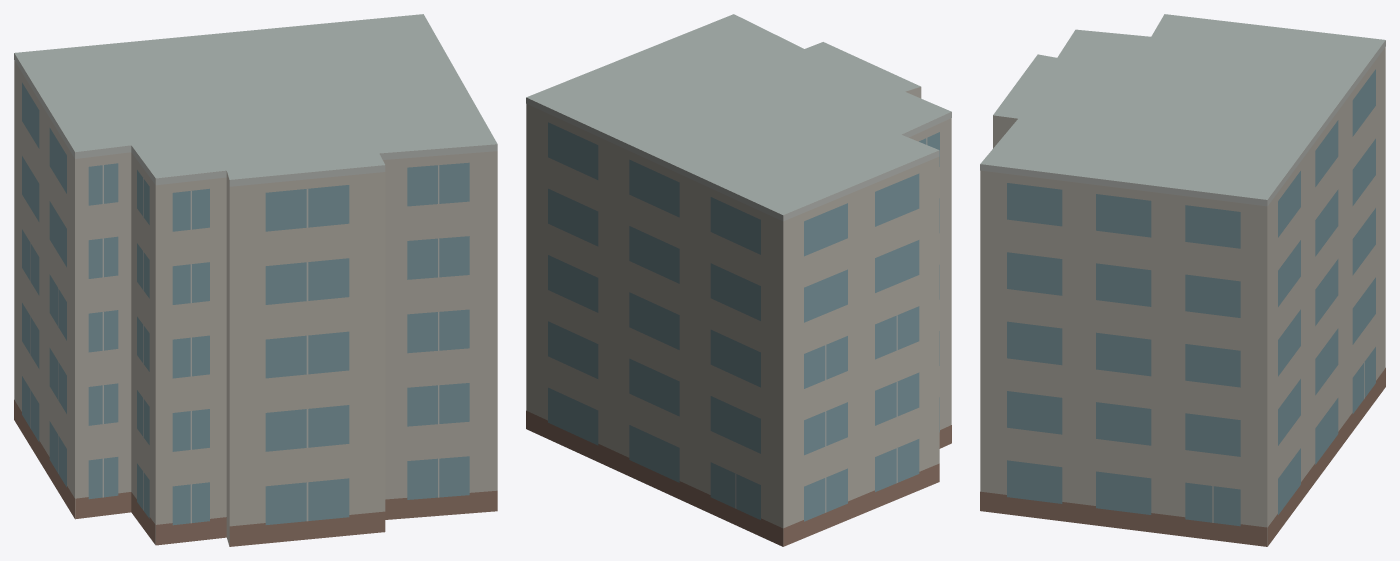
File: survey-upis-32852208.glb
The picture shows the model from 3 angles, left to right: view 1: azimuth 30°, elevation 25°; view 2: azimuth 150°, elevation 25°; view 3: azimuth 270°, elevation 25°; orthographic projection. The views are drawn at different scales.
Parts seen in each view (by area): view 1: survey-upis-32852208.tmp; view 2: survey-upis-32852208.tmp; view 3: survey-upis-32852208.tmp.
Part boxes in pixels (x1,y1,x2,y2): survey-upis-32852208.tmp: [14, 14, 497, 546]; survey-upis-32852208.tmp: [526, 14, 951, 546]; survey-upis-32852208.tmp: [980, 14, 1385, 546].
Bounding box in the file's own units: 14.99 × 13.03 × 13.82.
